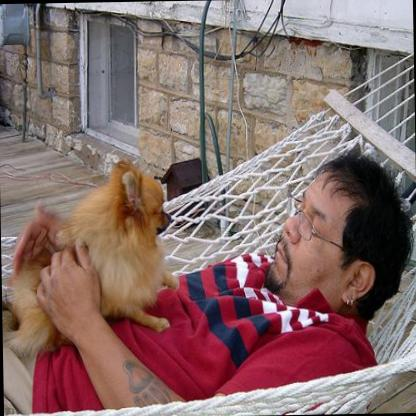Pomeranian: (0, 155, 179, 334)
